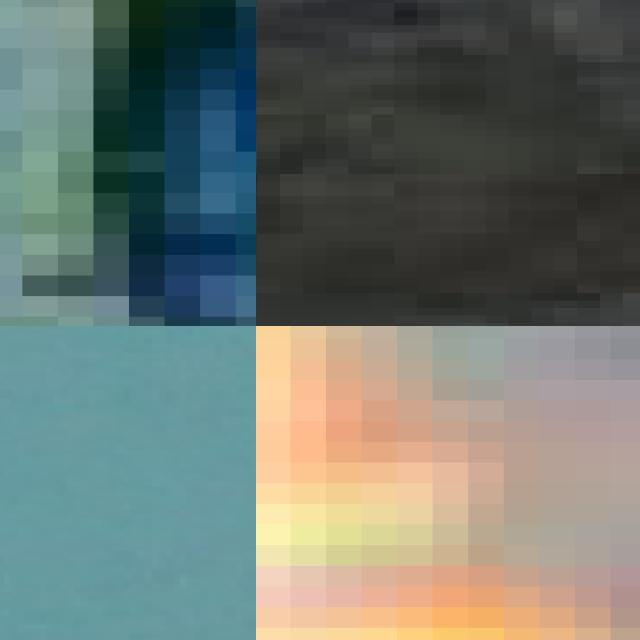fish: (256, 0, 640, 326), (0, 0, 256, 326)
